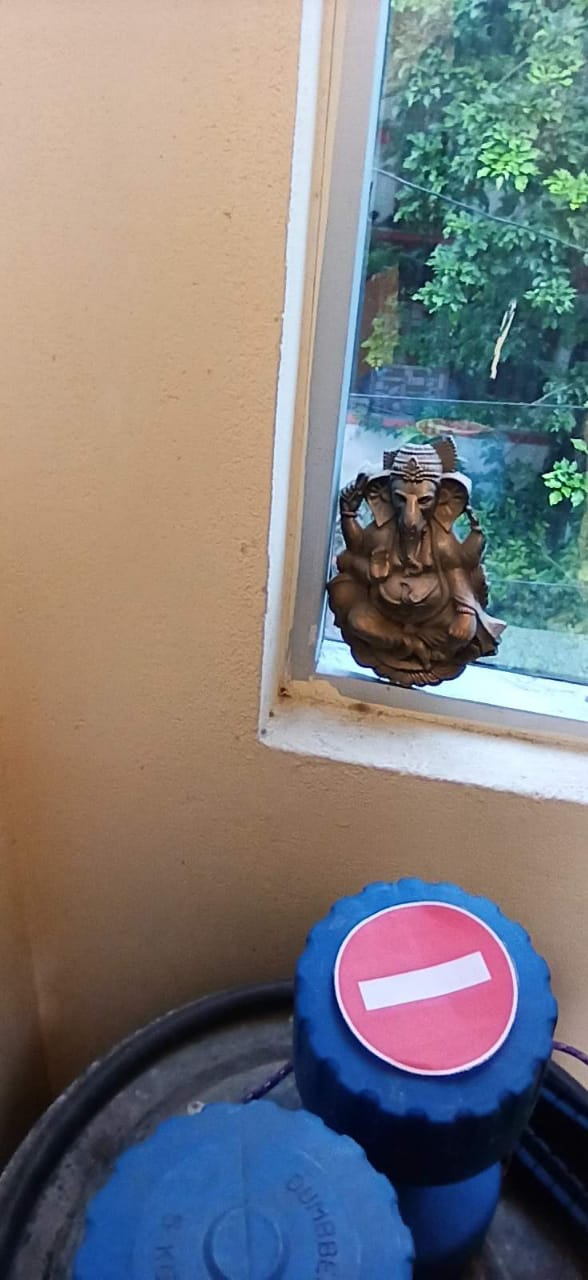NO ENTRY: (305, 876, 534, 1085)
